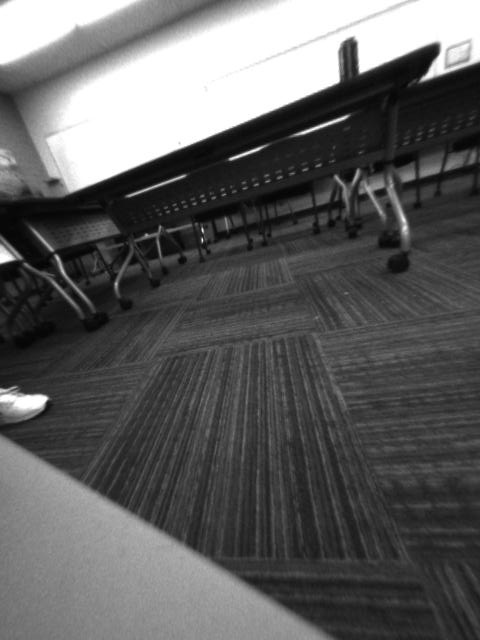can: (336, 30, 363, 84)
